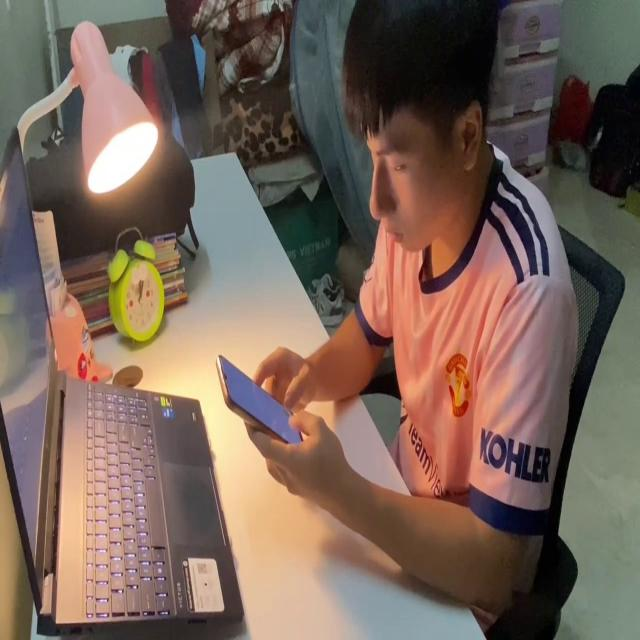laptop: (0, 118, 245, 635)
phone: (214, 340, 307, 453)
student: (252, 0, 578, 614)
